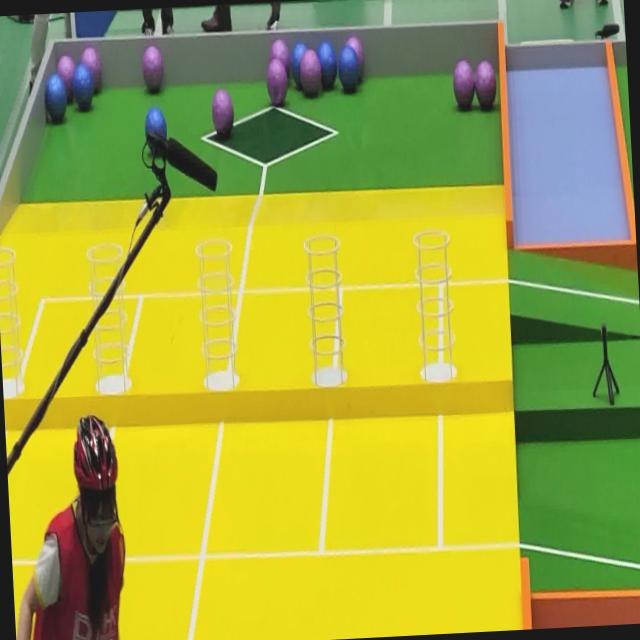blue_ball: (44, 76, 68, 124), (337, 46, 358, 96), (144, 106, 169, 147), (72, 69, 94, 112), (321, 40, 338, 92), (290, 42, 300, 87)
purple_ball: (211, 87, 236, 138), (142, 47, 166, 93), (266, 60, 289, 108), (300, 53, 322, 99), (270, 38, 290, 63), (64, 54, 74, 103), (356, 37, 366, 81), (81, 48, 101, 68)
